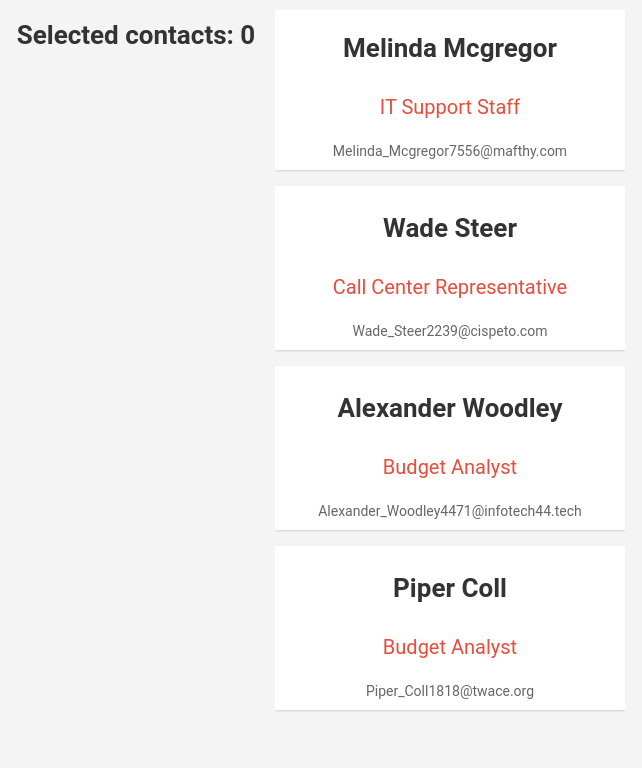
Scenario: App › handles contact clicks
(page scrolled)
expect the list with test id "people-list" is shown: met, box [275, 10, 625, 732]
expect the text "Selected contacts: 0" is shown: met, box [17, 20, 255, 50]
Click the button with test id "5": (450, 588) [275, 546, 625, 710]
(page scrolled)
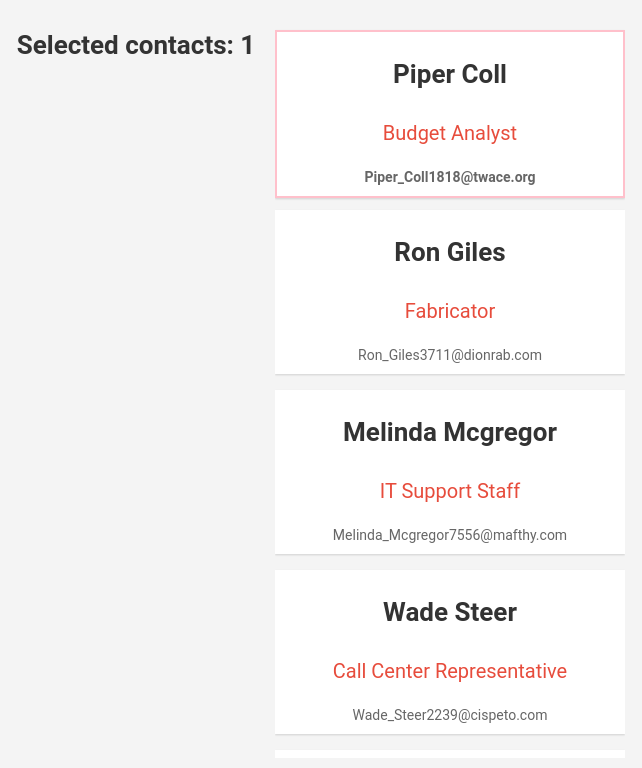
expect the text "Selected contacts: 1" is shown: met, box [17, 30, 255, 60]
Click the button with test id "5": (450, 74) [275, 30, 625, 198]
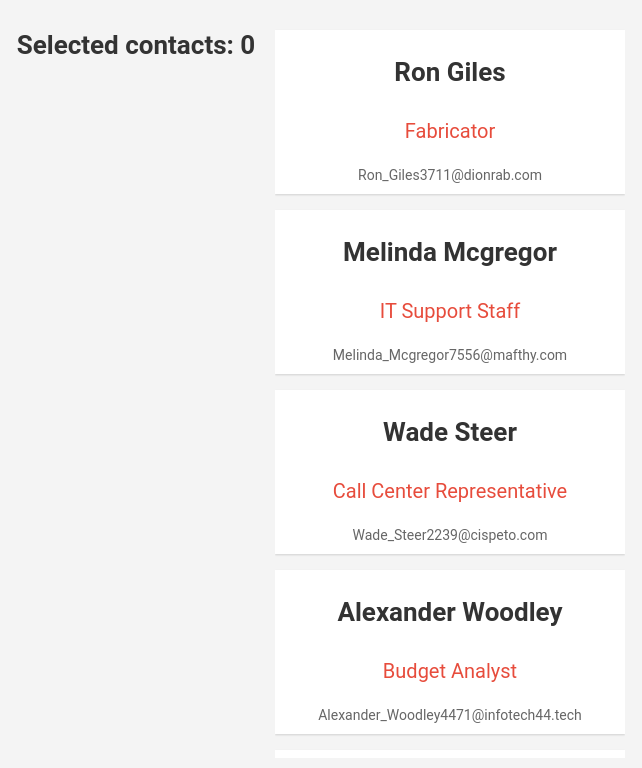
expect the text "Selected contacts: 0" is shown: met, box [17, 30, 255, 60]
